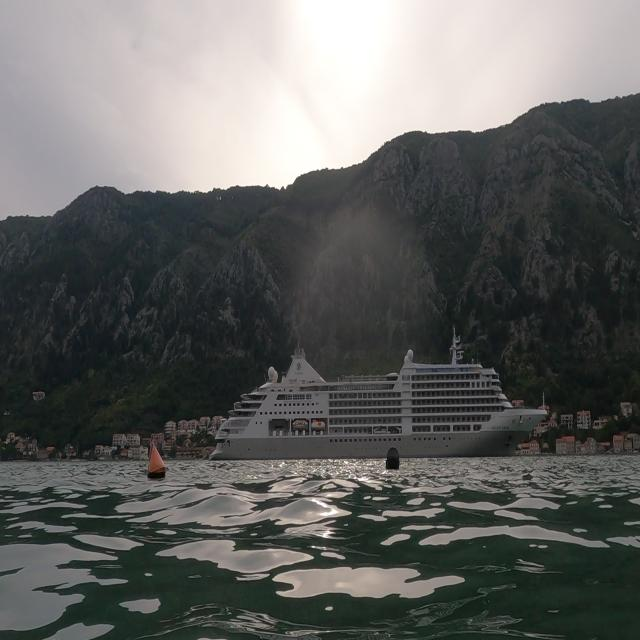boat: (207, 324, 549, 464)
buoy: (142, 432, 173, 483), (378, 436, 404, 484)
